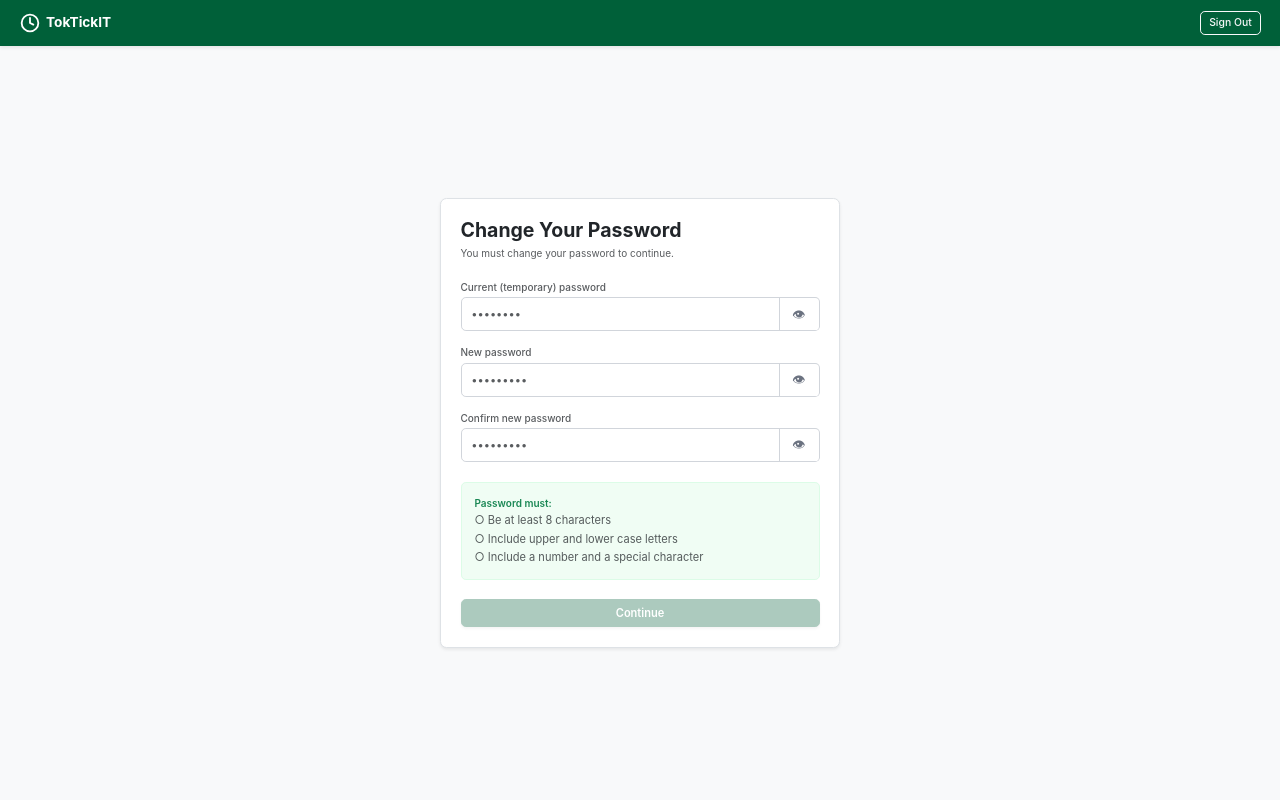
Test: ChangePassword UI Component Tests (TC-UI-02) › enables submit button only when all password policy rules and match conditions are satisfied
The image size is (1280, 800).
Type "InitialPass1!" into the password field with test id "current-password-input".
click(620, 314); type("InitialPass1!")  # box [460, 297, 780, 332]
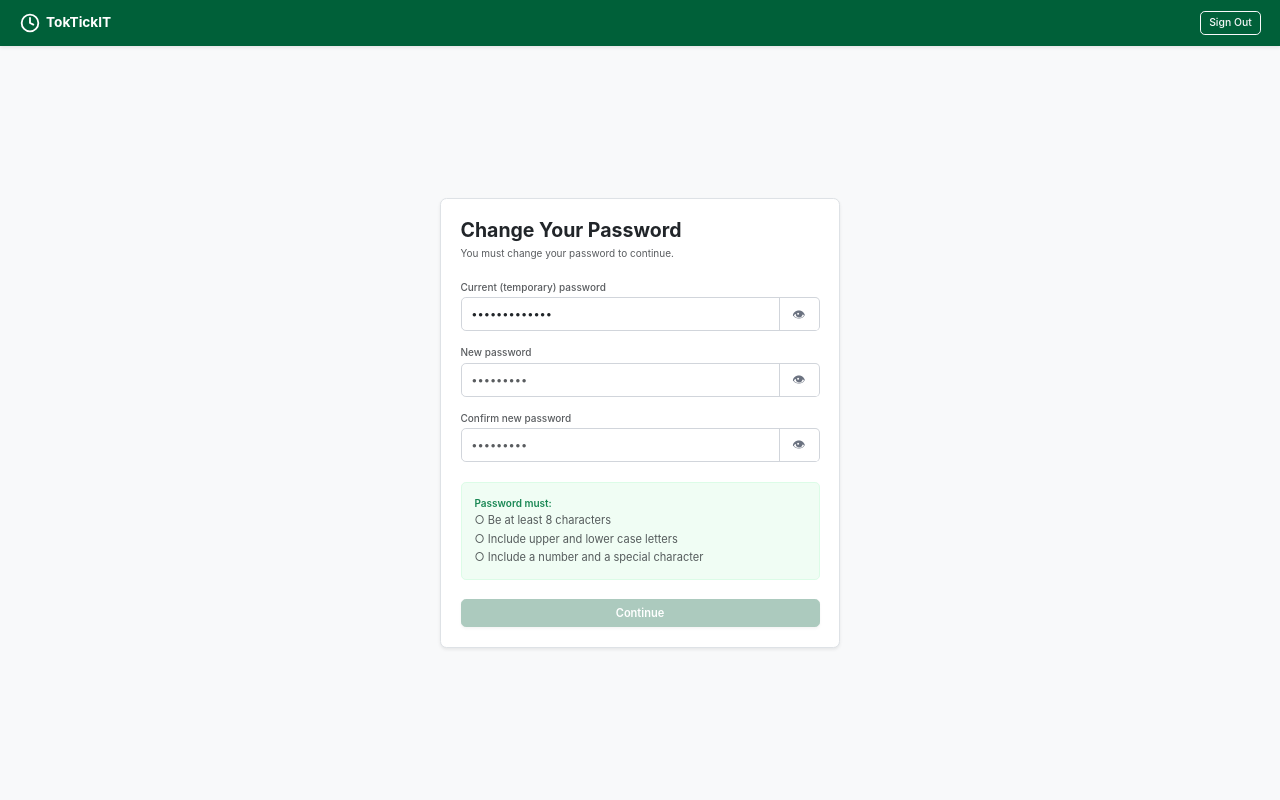
Type "Weak" into the password field with test id "new-password-input".
click(620, 380); type("Weak")  # box [460, 363, 780, 397]
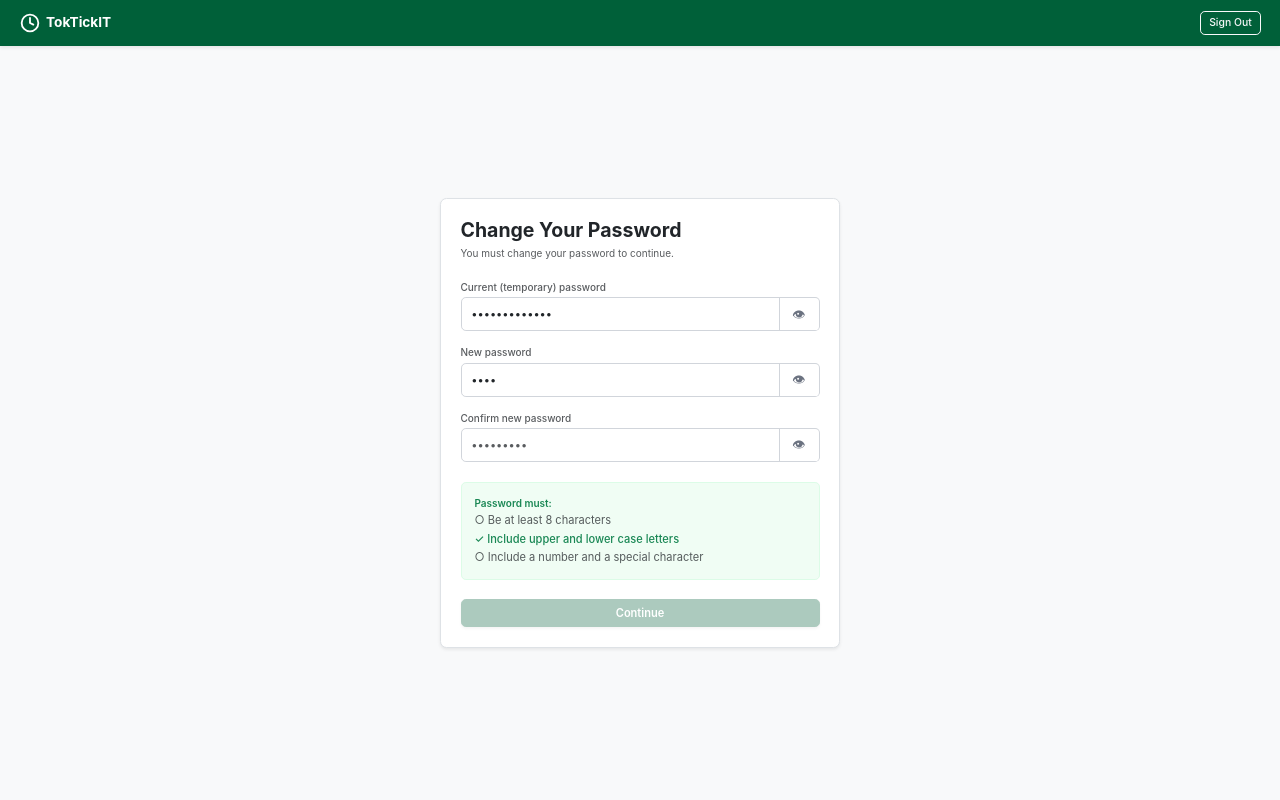
Type "Weak" into the password field with test id "confirm-password-input".
click(620, 445); type("Weak")  # box [460, 428, 780, 462]
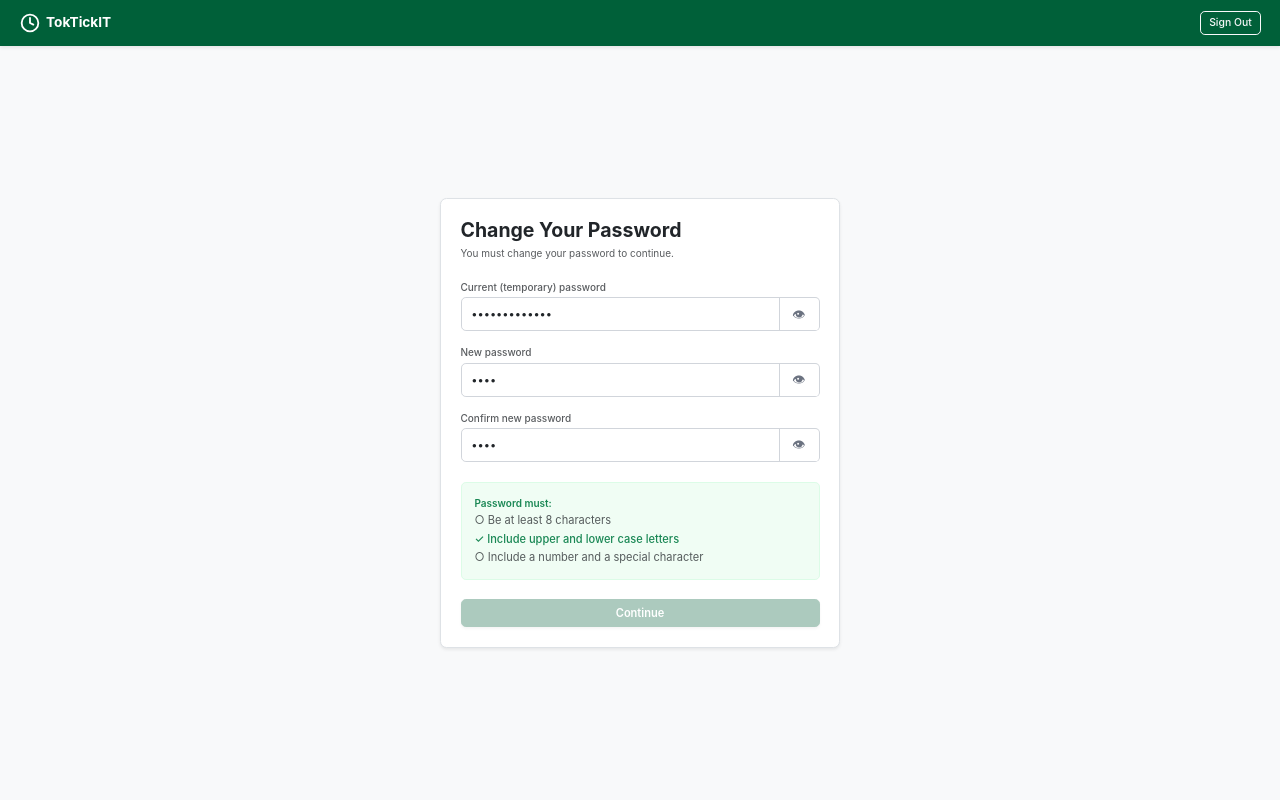
expect the button with test id "change-password-submit-btn" is disabled: met, box [460, 599, 820, 627]
Type "NewStrongPass123!" into the password field with test id "new-password-input".
click(620, 380); type("NewStrongPass123!")  # box [460, 363, 780, 397]
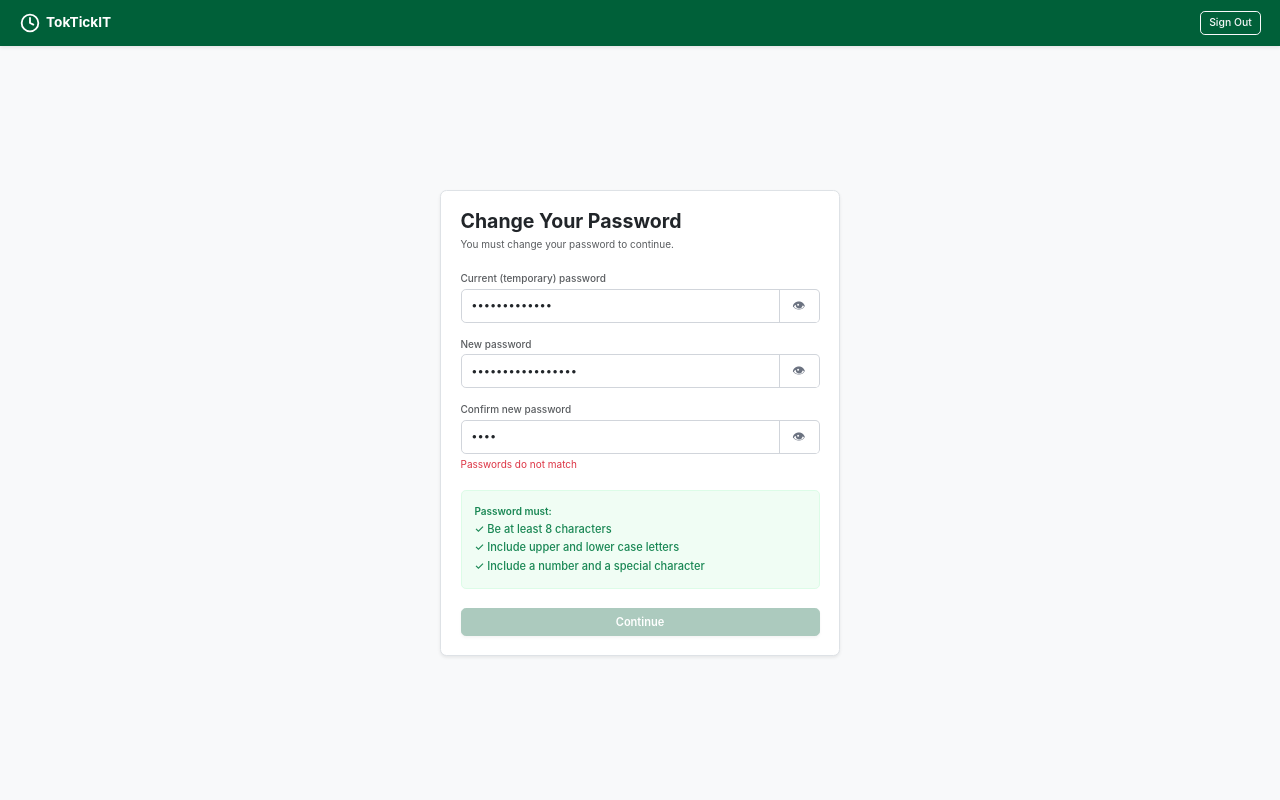
Type "NewStrongPass123!" into the password field with test id "confirm-password-input".
click(620, 437); type("NewStrongPass123!")  # box [460, 420, 780, 454]
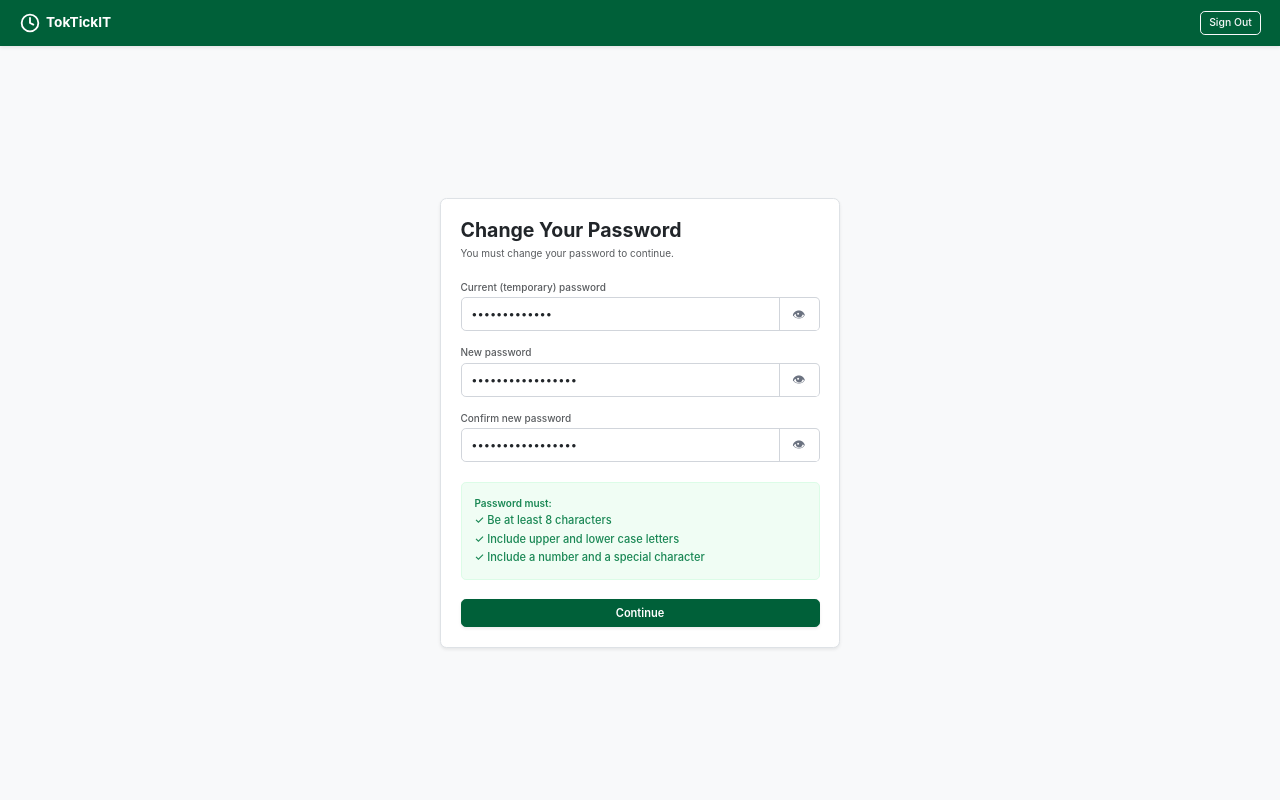
expect the button with test id "change-password-submit-btn" is enabled: met, box [460, 599, 820, 627]
